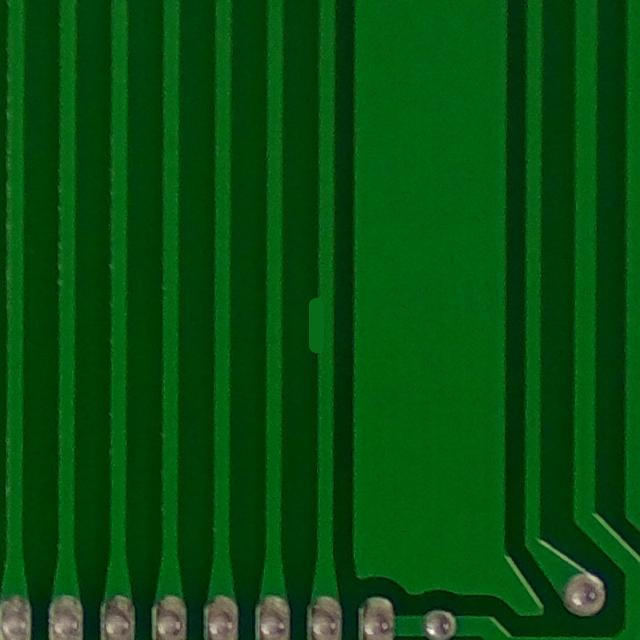spur: (297, 277, 344, 364)
